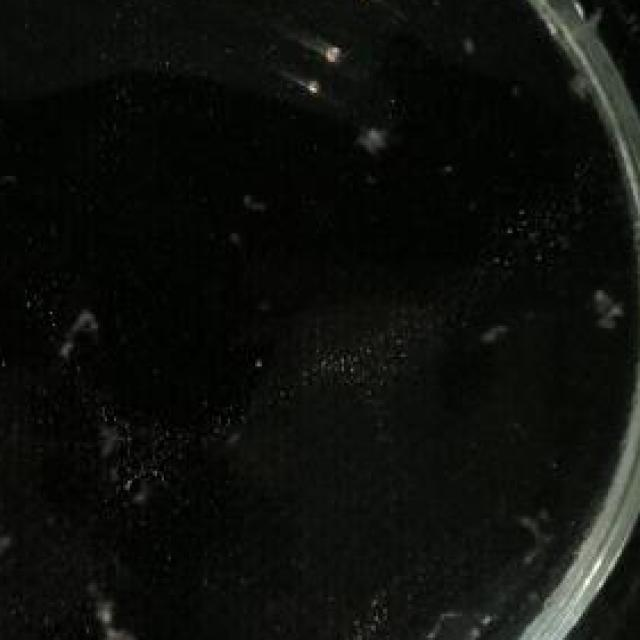Microplastic: (43, 286, 107, 371), (105, 412, 164, 504), (578, 269, 640, 350), (77, 583, 155, 640)
